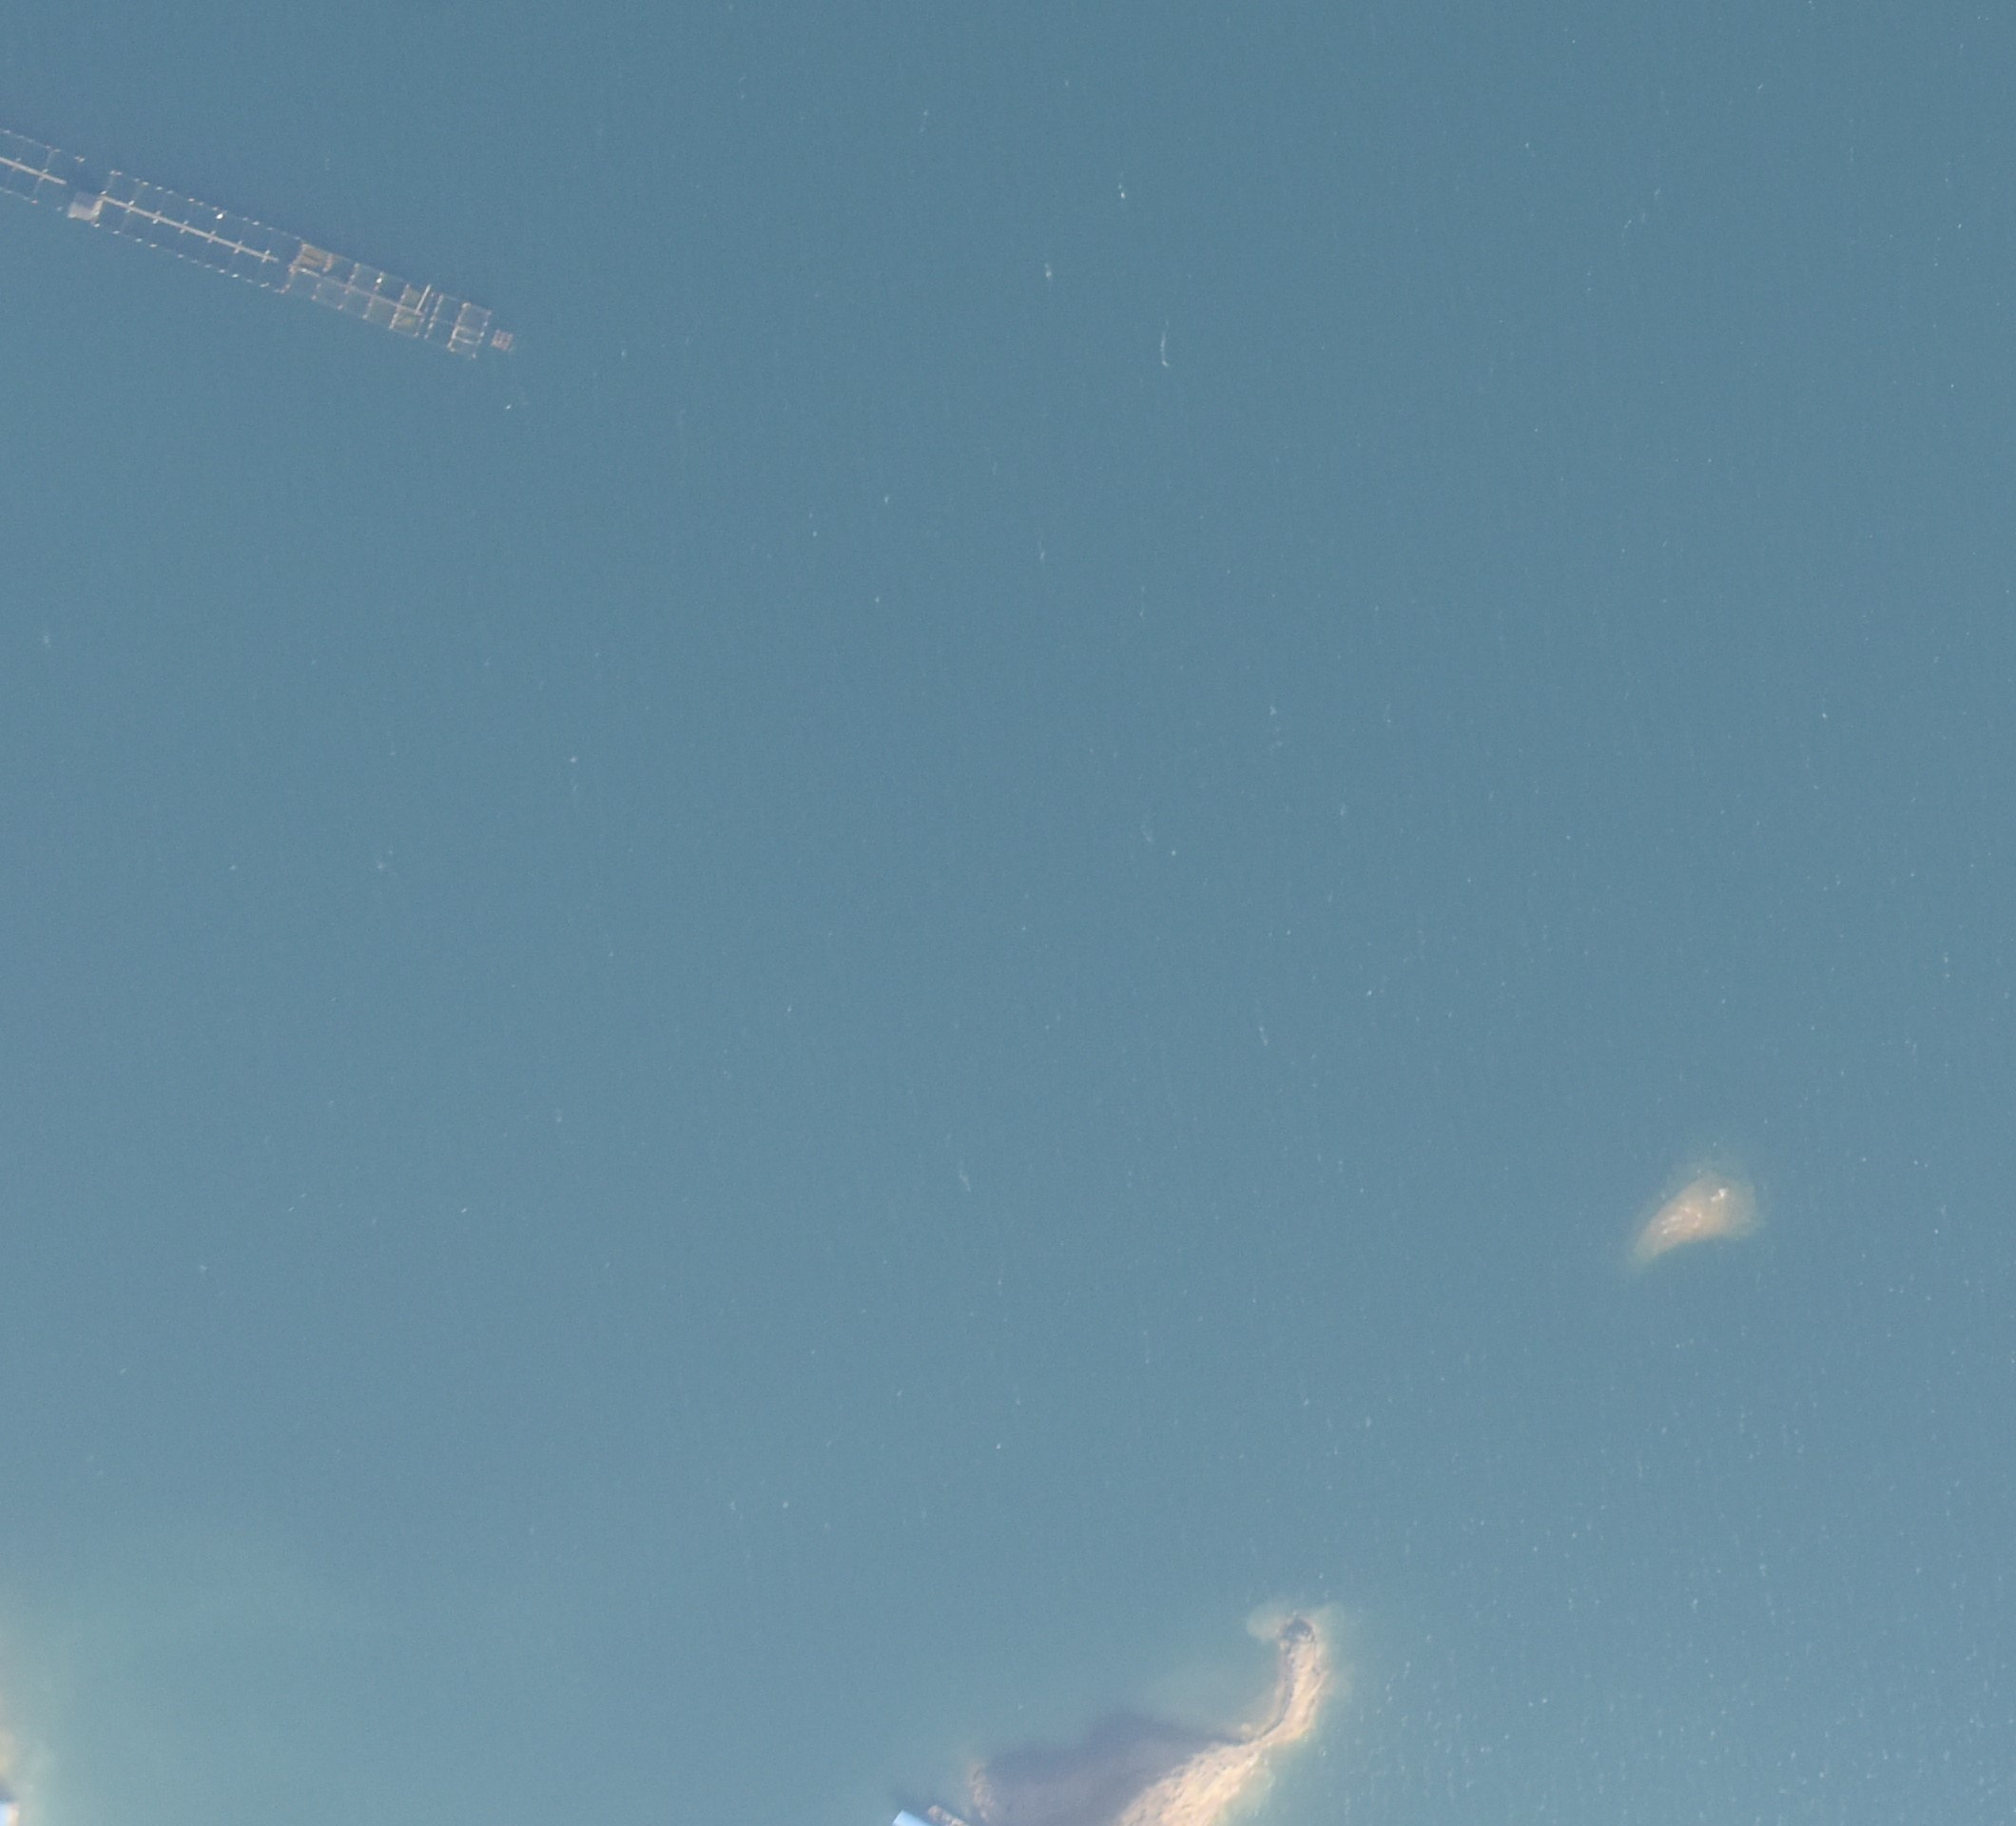cultivation-mesh-cage: (4, 124, 517, 370)
prefabricated-house: (69, 187, 106, 222), (294, 244, 332, 277), (893, 1810, 932, 1825), (490, 328, 514, 351)
